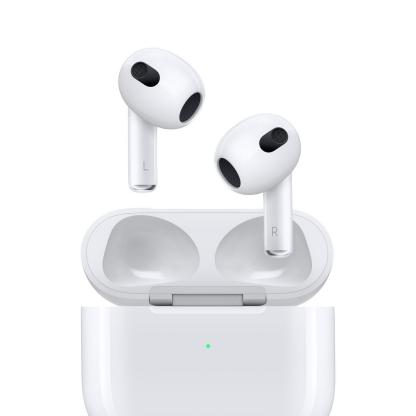Airpods: (216, 112, 308, 262), (118, 44, 205, 189)
